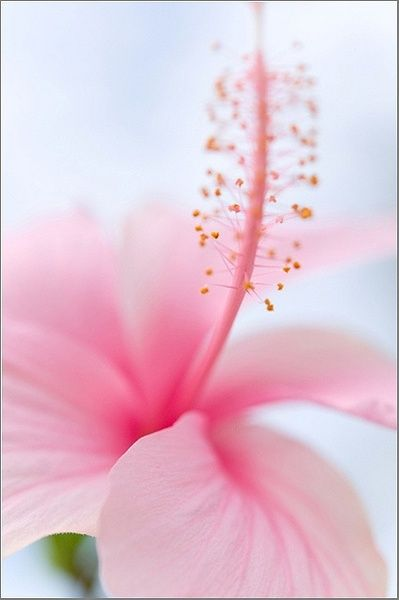Hibiscus: (1, 2, 399, 600)
